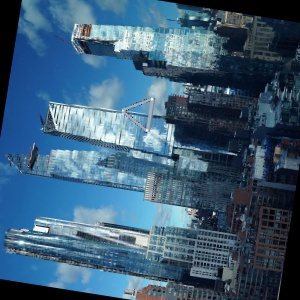triangle: (120, 95, 156, 135)
